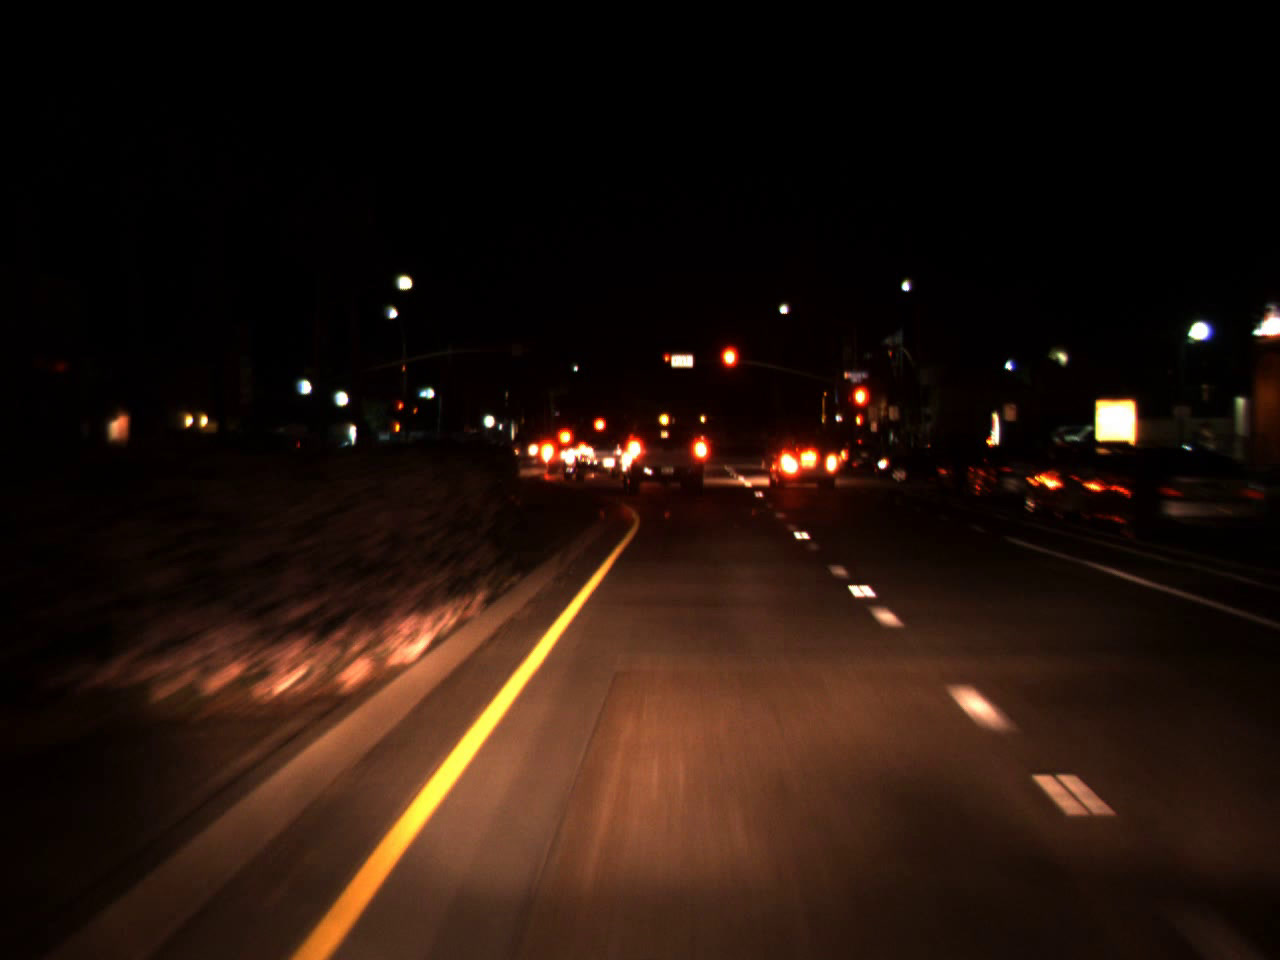stop: (718, 343, 742, 391), (850, 382, 872, 433), (664, 353, 670, 366), (397, 403, 403, 413)
